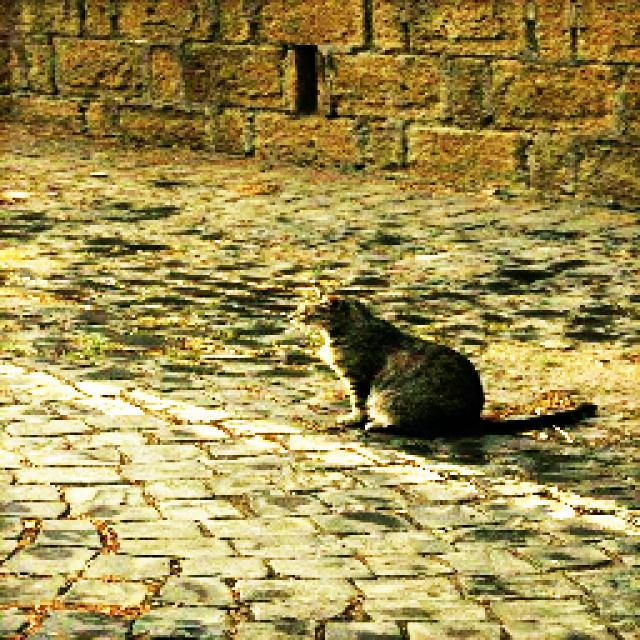cat: (290, 281, 602, 449)
